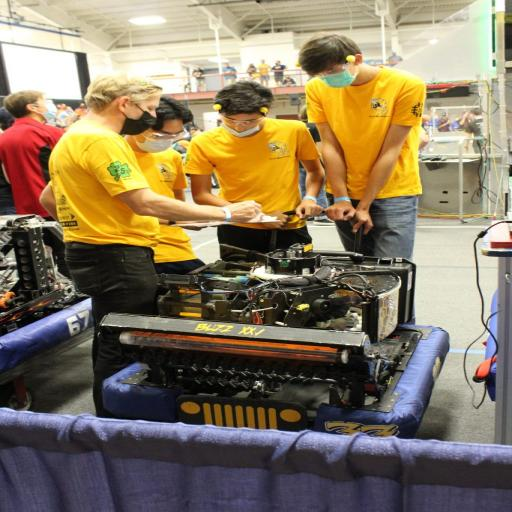robot: (96, 249, 456, 441), (0, 213, 94, 365)
